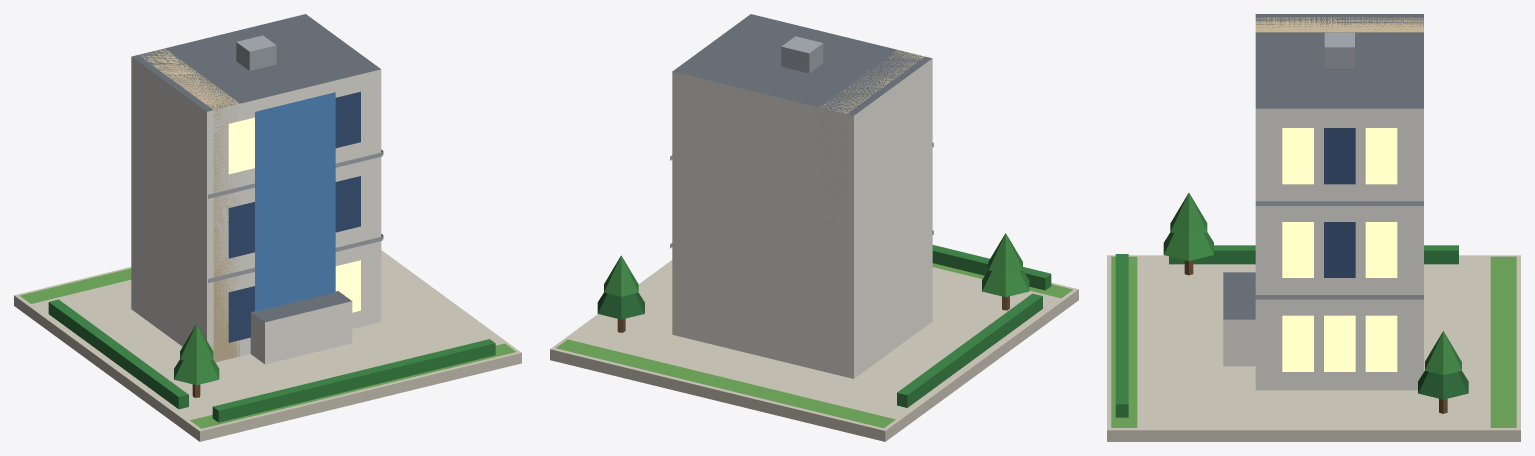
3 views of the same model, side by side, from view 1: azimuth 30°, elevation 25°; view 2: azimuth 150°, elevation 25°; view 3: azimuth 270°, elevation 25° (orthographic). The views are drawn at different scales.
Parts seen in each view (by area): view 1: b16; view 2: b16; view 3: b16.
Boxes of the visible parts, x1,y1,x2,y2 form: b16: [14, 14, 521, 441]; b16: [550, 14, 1078, 441]; b16: [1107, 14, 1520, 441].
Bounding box in the file's own units: 0.96 × 0.805 × 0.96.
